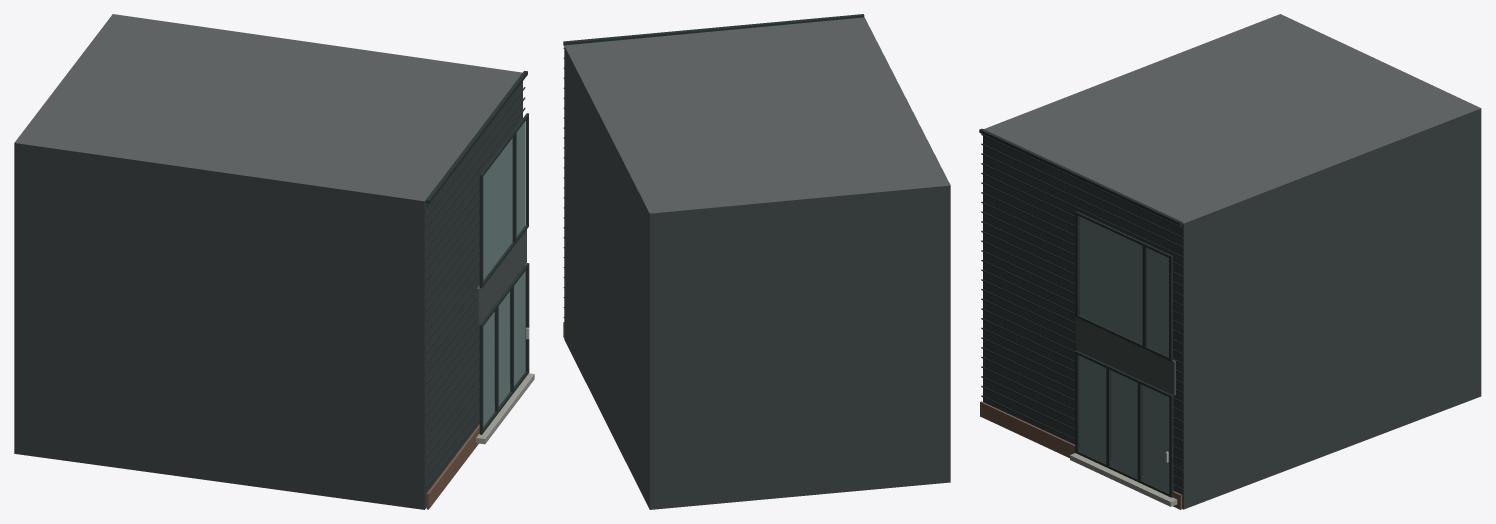
Rendered from haparandaweg-13.glb.
3 renders of one model, left to right at view 1: azimuth 30°, elevation 25°; view 2: azimuth 150°, elevation 25°; view 3: azimuth 270°, elevation 25°, orthographic. The views are drawn at different scales.
Visible parts, largest first — view 1: haparandaweg-13; view 2: haparandaweg-13; view 3: haparandaweg-13.
Part boxes in pixels (box(x1,y1,x2,y2)): haparandaweg-13: box(14, 14, 534, 509); haparandaweg-13: box(563, 14, 950, 509); haparandaweg-13: box(979, 14, 1481, 509).
Bounding box in the file's own units: 11.11 × 7.15 × 11.27.
